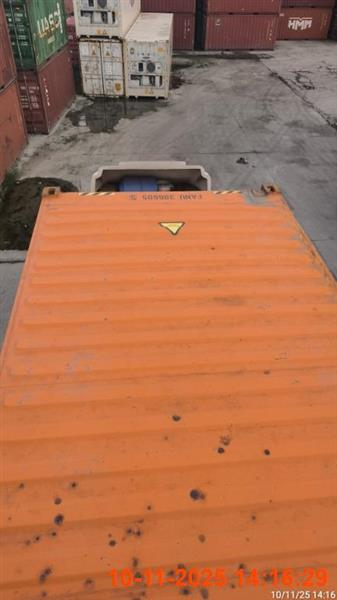bent: (0, 162, 335, 597)
